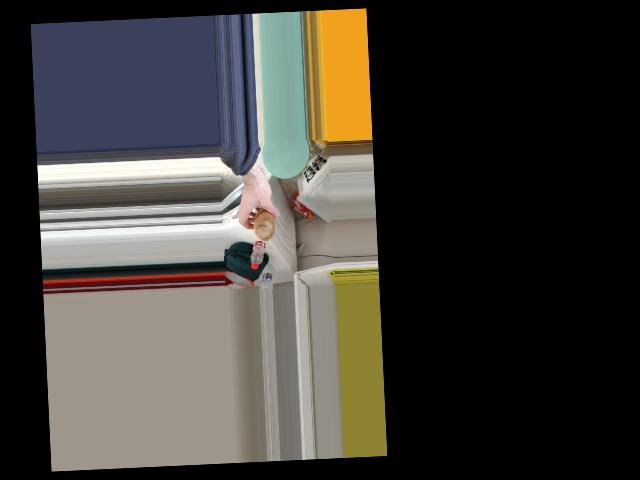sweet_potato: (247, 202, 278, 240)
